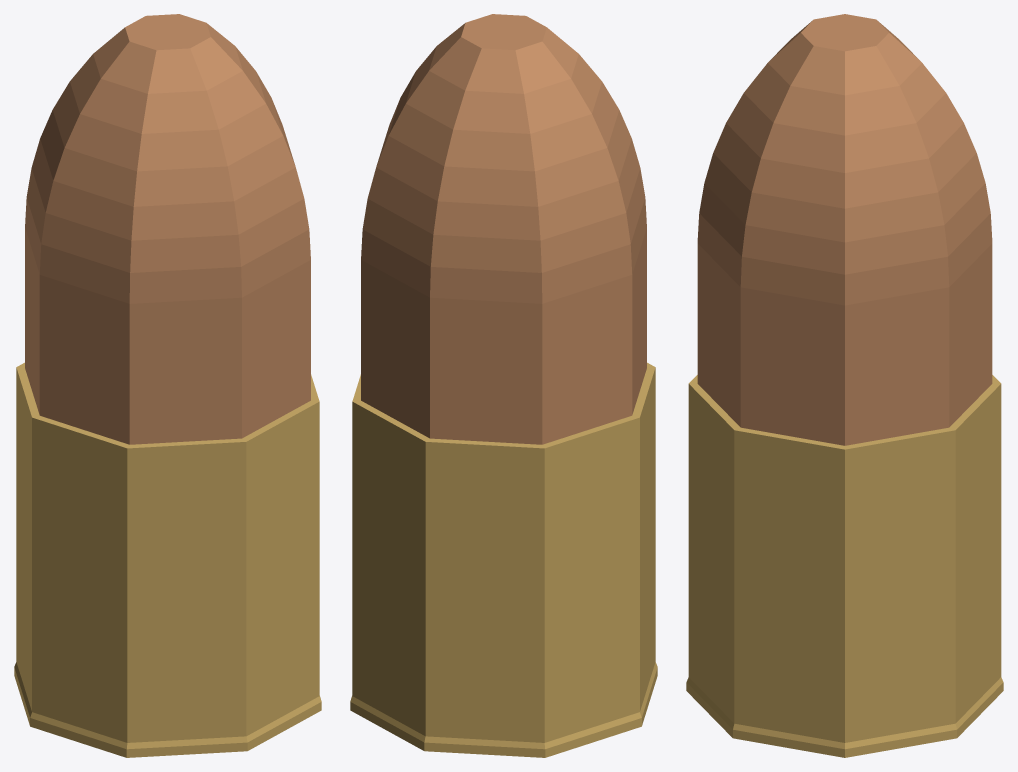
Rendered from round_40x46.glb.
3 views of the same model, side by side, from view 1: azimuth 30°, elevation 25°; view 2: azimuth 150°, elevation 25°; view 3: azimuth 270°, elevation 25° (orthographic).
Visible parts, largest first — view 1: round_40x46; view 2: round_40x46; view 3: round_40x46.
Boxes of the visible parts, box(x1,y1,x2,y2) form: round_40x46: box(14, 14, 321, 757); round_40x46: box(350, 14, 657, 757); round_40x46: box(686, 14, 1003, 757).
Size of the model in its own units: 0.043 by 0.0985 by 0.043.
